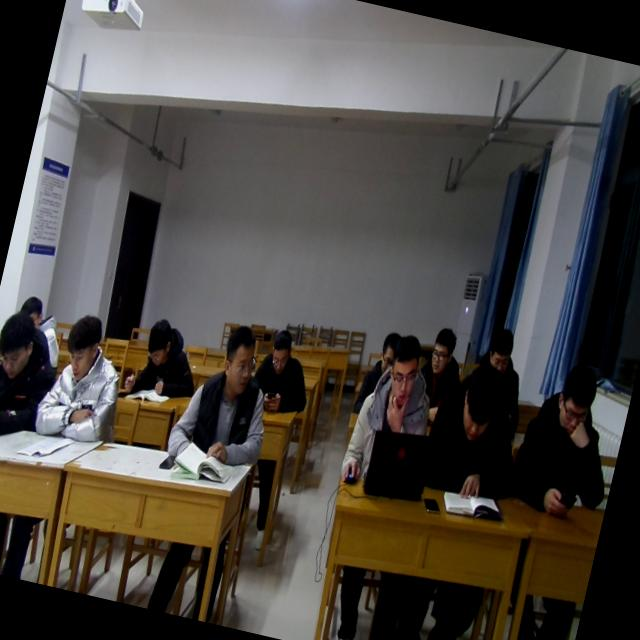down: (546, 358, 604, 444), (452, 360, 508, 446), (54, 304, 109, 386), (384, 330, 428, 408), (0, 307, 40, 384), (140, 315, 175, 369), (424, 321, 458, 376), (263, 329, 297, 378), (483, 326, 518, 372), (375, 326, 400, 372)
lookup: (16, 288, 48, 325)
sit: (502, 352, 632, 526), (163, 316, 288, 478), (338, 327, 447, 500), (416, 358, 534, 510), (31, 307, 136, 450), (0, 307, 62, 451), (122, 314, 209, 407), (248, 326, 320, 420), (408, 324, 472, 428), (472, 326, 540, 414), (350, 323, 402, 418)
